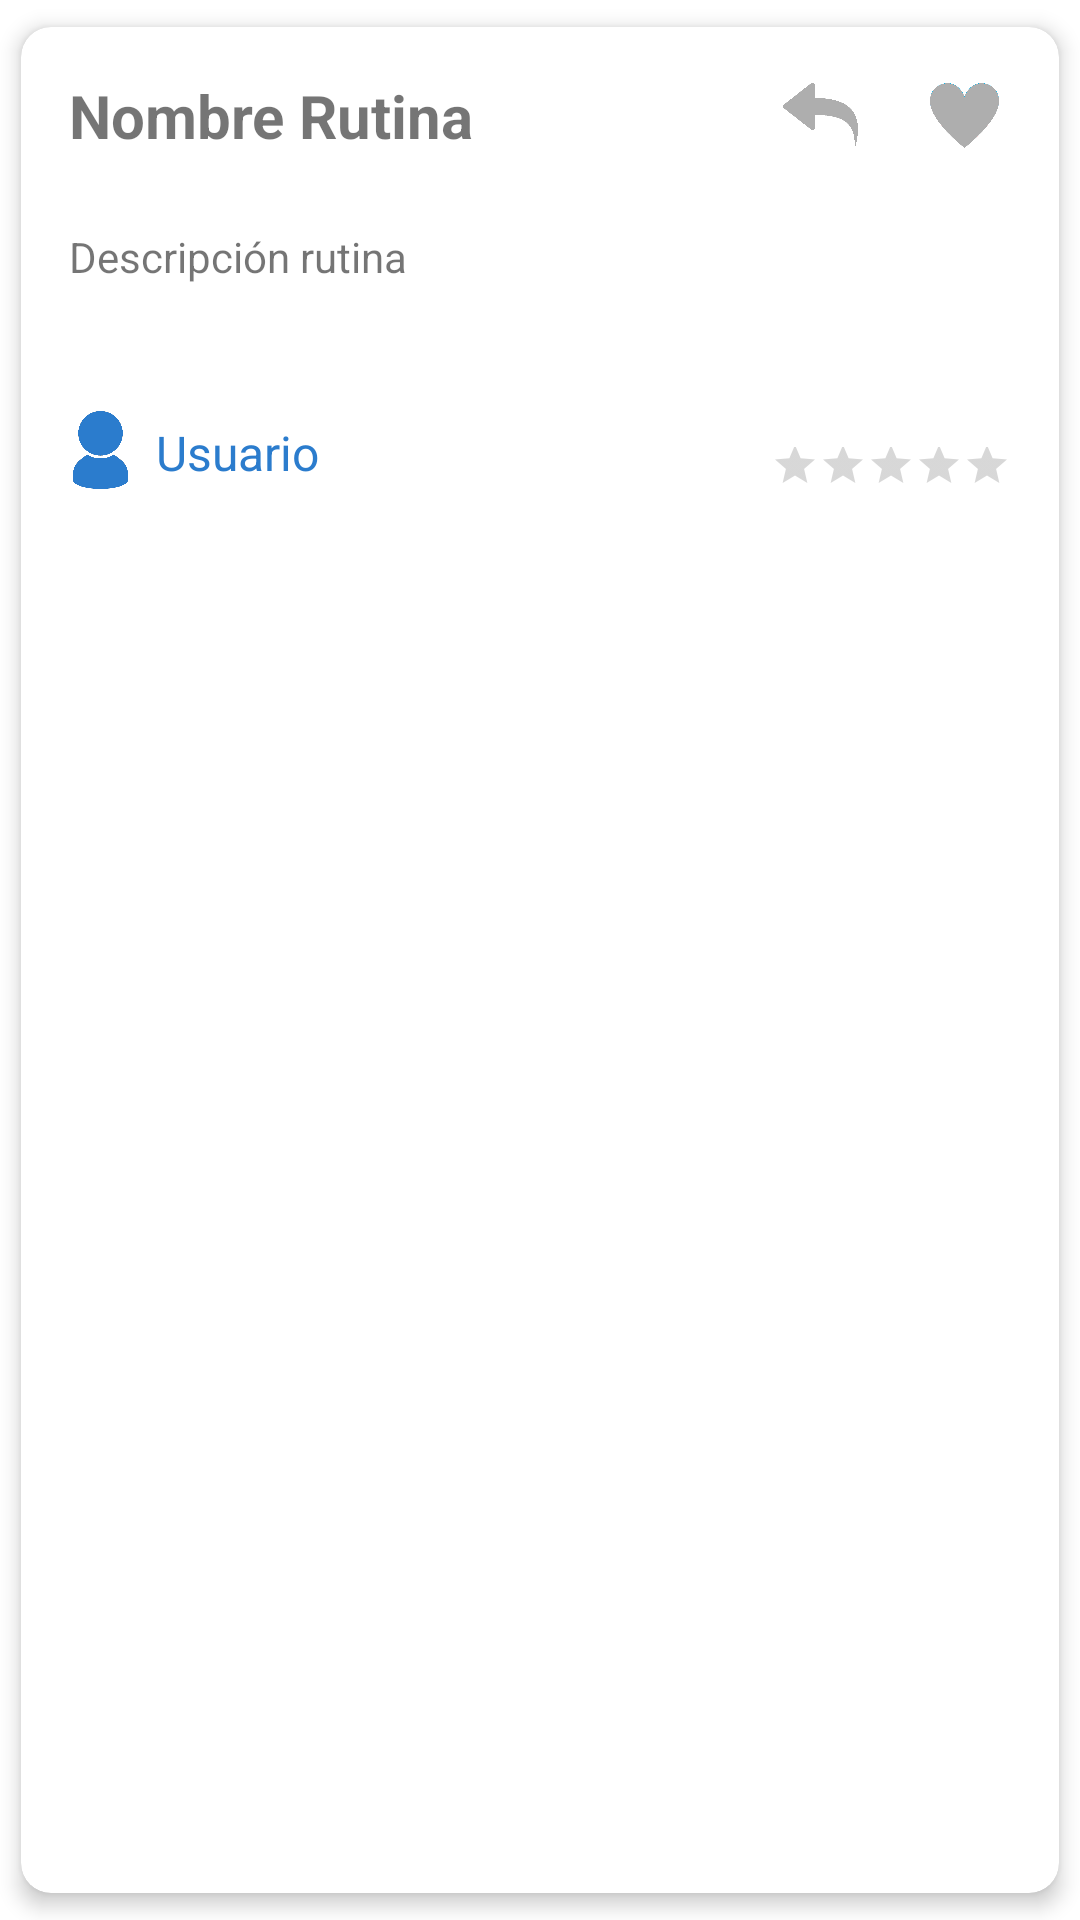

Locate icon controls on the screen. Image size 1080px×1920px, boxes as [left=x1, top=y1, right=x2, bottom=y2].
favorite: [left=930, top=83, right=999, bottom=148]
person: [left=73, top=411, right=128, bottom=489]
reply: [left=783, top=83, right=858, bottom=146]
